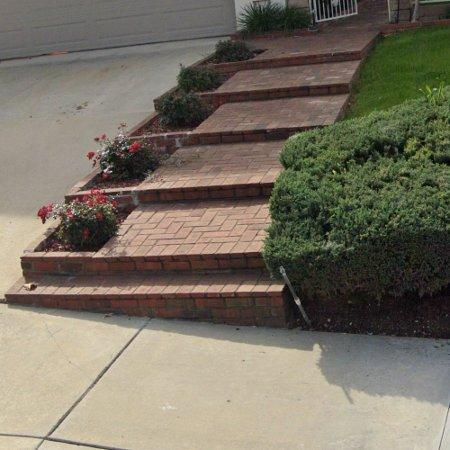stairs: (6, 23, 380, 328)
